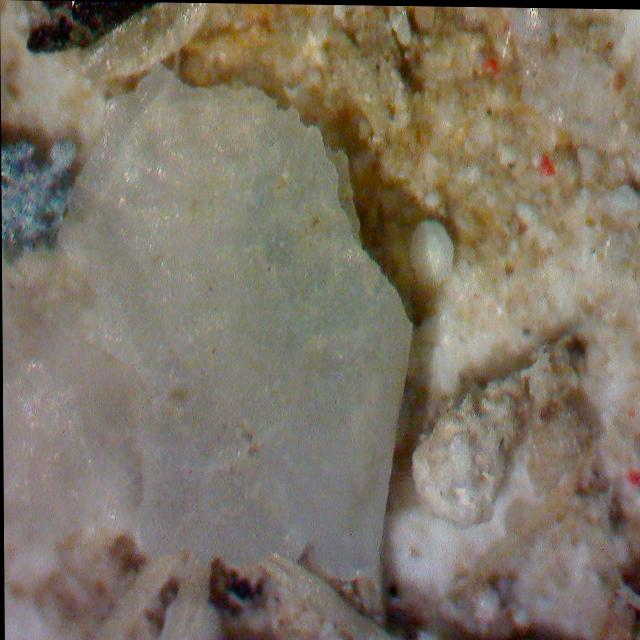microplastic: (12, 49, 446, 593)
